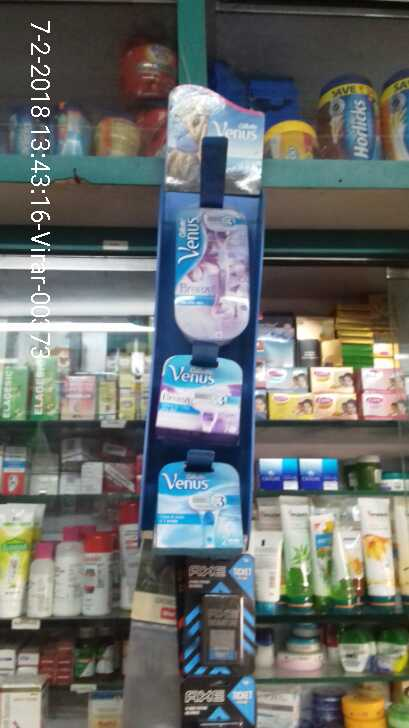venus: (165, 199, 252, 343), (150, 447, 243, 556), (149, 346, 247, 434)
